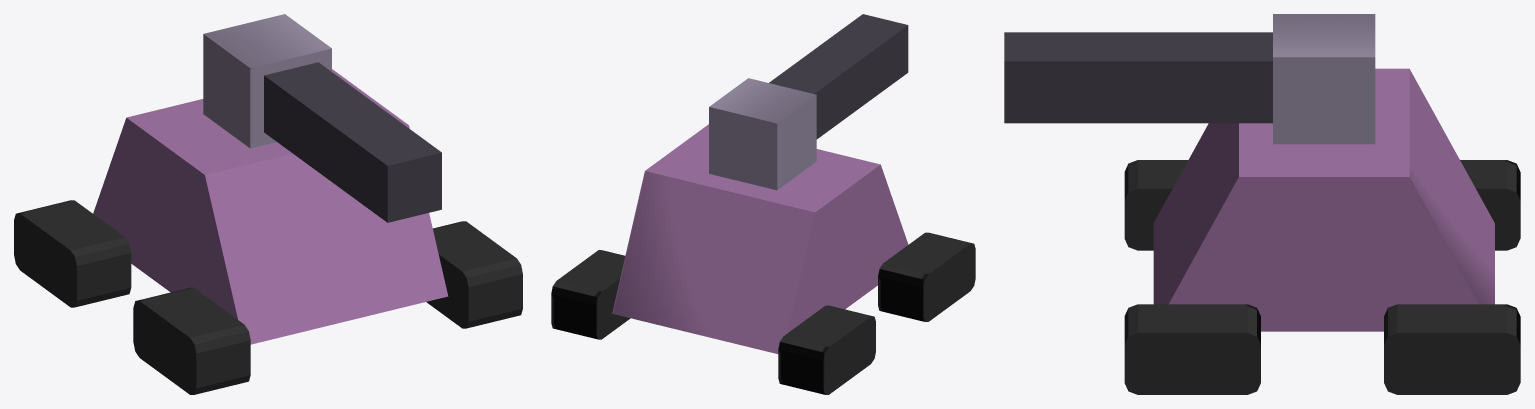
The model's file is enemyBullet.gltf.
The picture shows the model from 3 angles, left to right: view 1: azimuth 30°, elevation 25°; view 2: azimuth 150°, elevation 25°; view 3: azimuth 270°, elevation 25°; orthographic projection. The views are drawn at different scales.
Visible parts, largest first — view 1: 立方体.001; view 2: 立方体.001; view 3: 立方体.001.
Boxes of the visible parts, bbox=[...] form: 立方体.001: bbox=[14, 14, 522, 394]; 立方体.001: bbox=[551, 14, 975, 394]; 立方体.001: bbox=[1004, 14, 1520, 394].
Bounding box in the file's own units: 3.6 × 2.64 × 4.53.
1 material, 1 textured.
